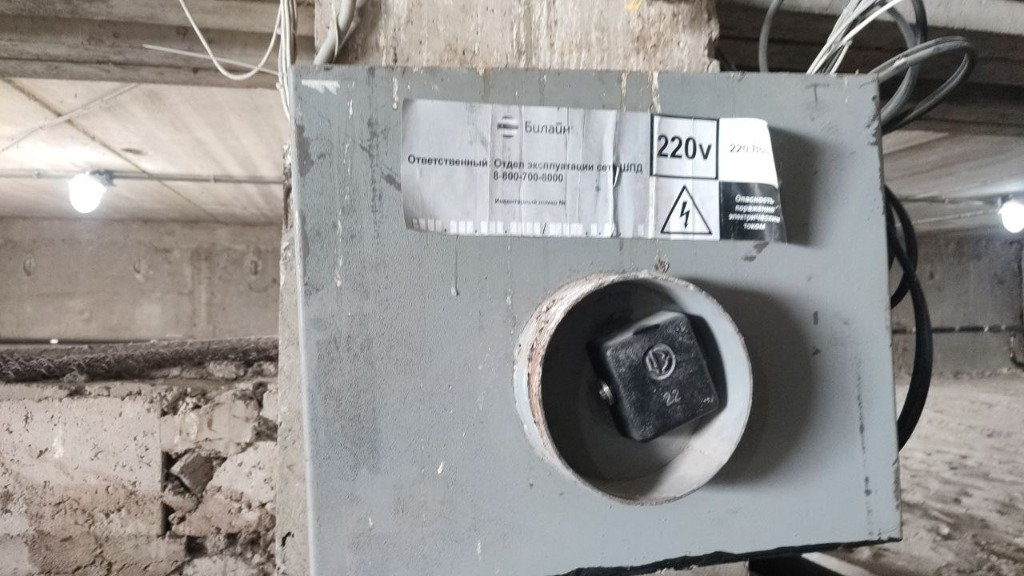shta-3: (290, 64, 909, 573)
